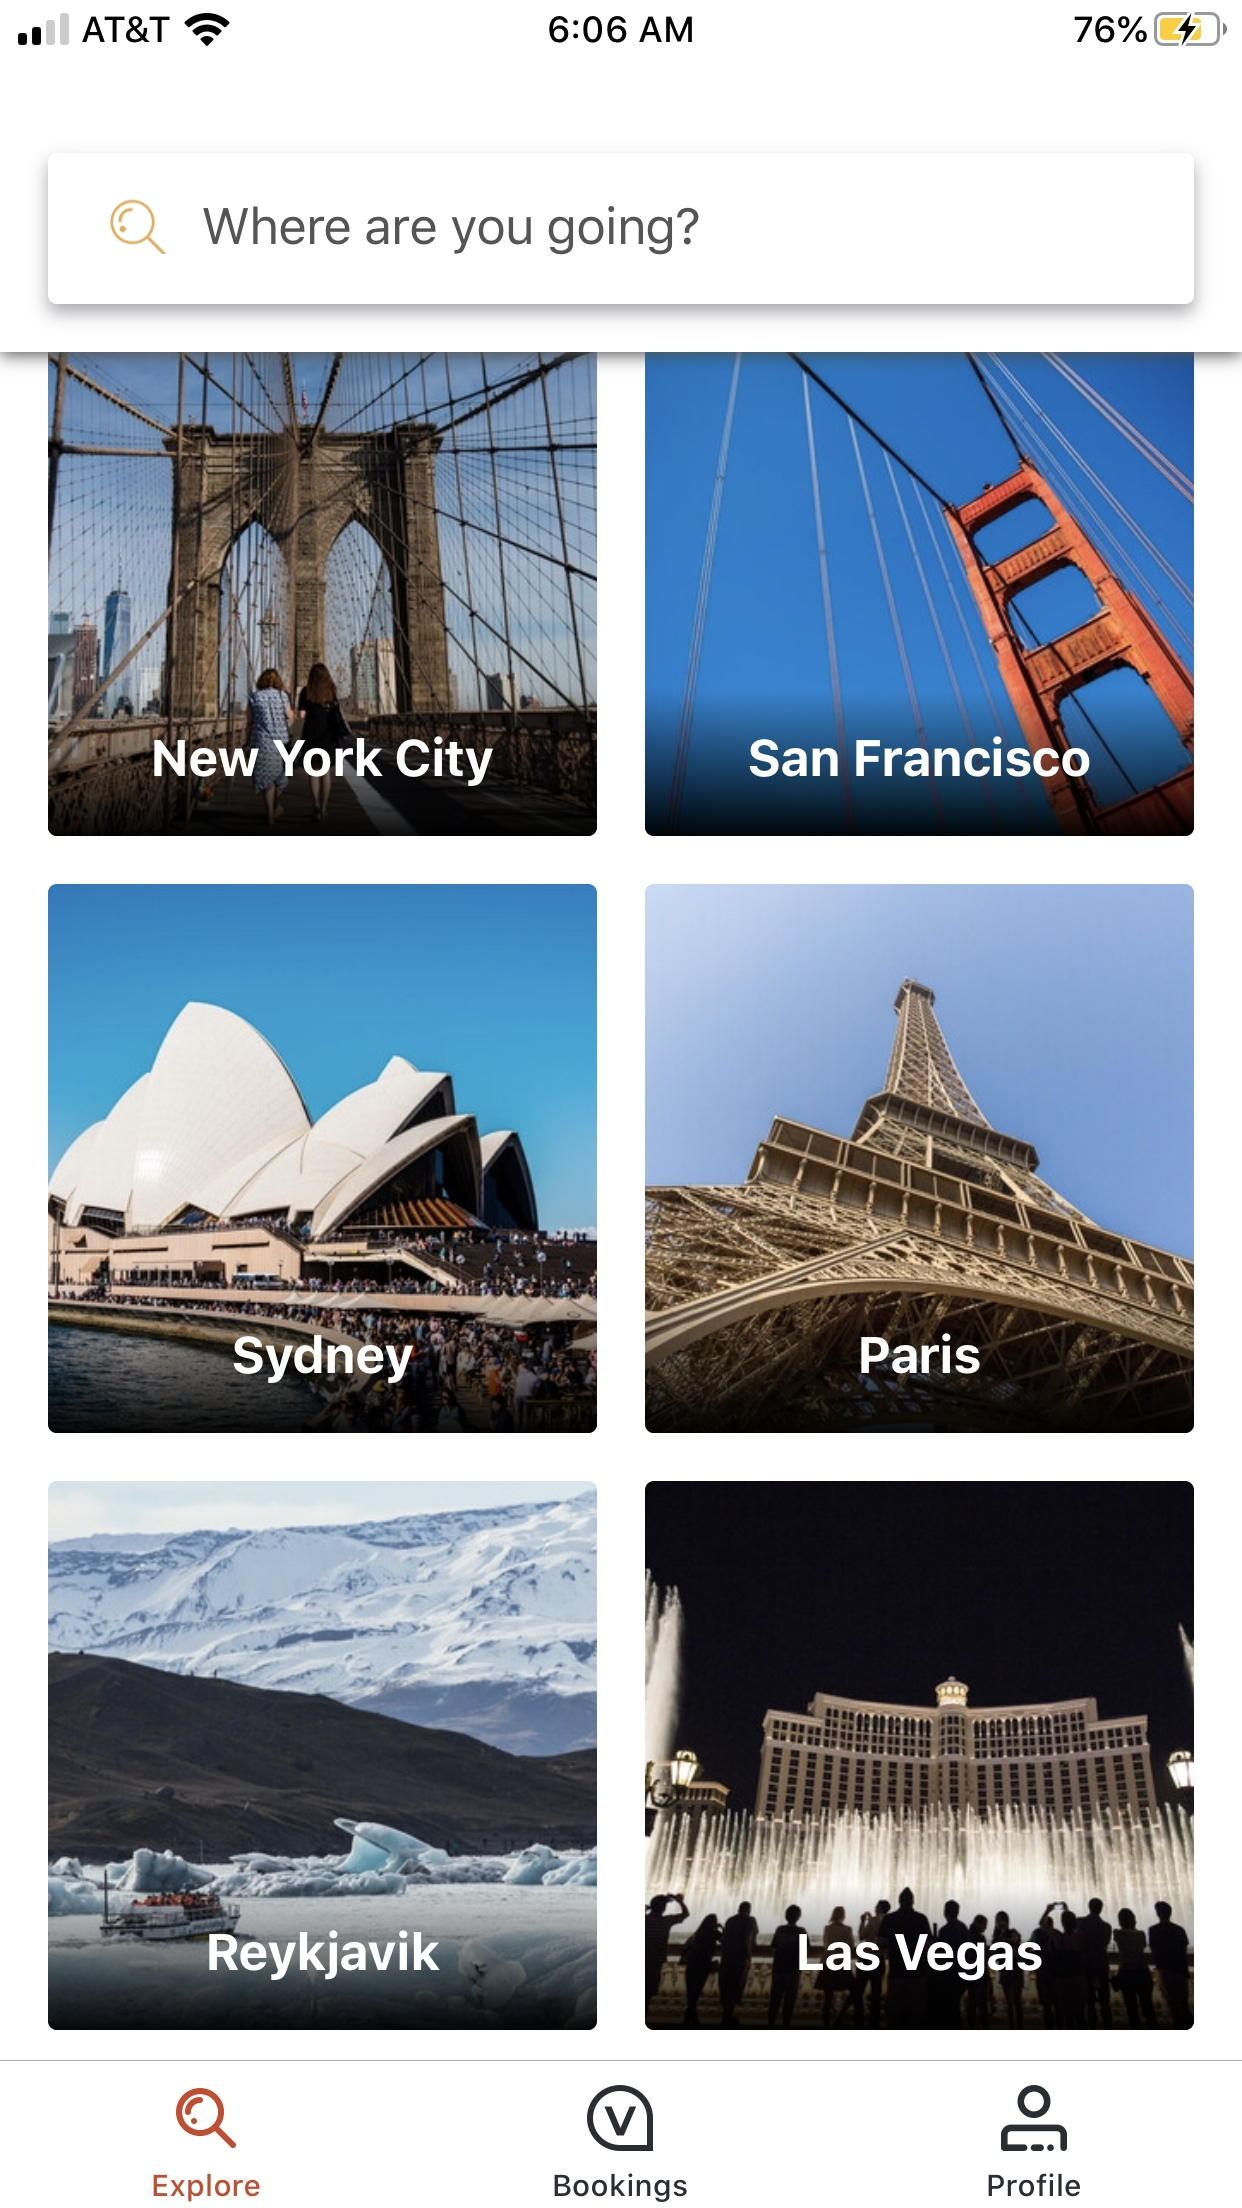EditText: (49, 153, 1193, 305)
Icon: (999, 2084, 1068, 2152), (177, 2088, 238, 2149), (111, 199, 167, 255)
Image: (645, 884, 1195, 1435), (49, 884, 597, 1435), (645, 1482, 1195, 2031), (49, 1482, 597, 2031), (645, 352, 1195, 837), (49, 352, 597, 837), (585, 2085, 654, 2152)
Text: (205, 206, 701, 256), (155, 735, 494, 789), (749, 737, 1090, 779), (209, 1927, 441, 1981), (798, 1934, 1042, 1982), (234, 1335, 414, 1385), (861, 1331, 981, 1375), (554, 2172, 688, 2203), (153, 2173, 261, 2202), (989, 2172, 1081, 2197)
UpperTaskBar: (2, 2, 1242, 52)
